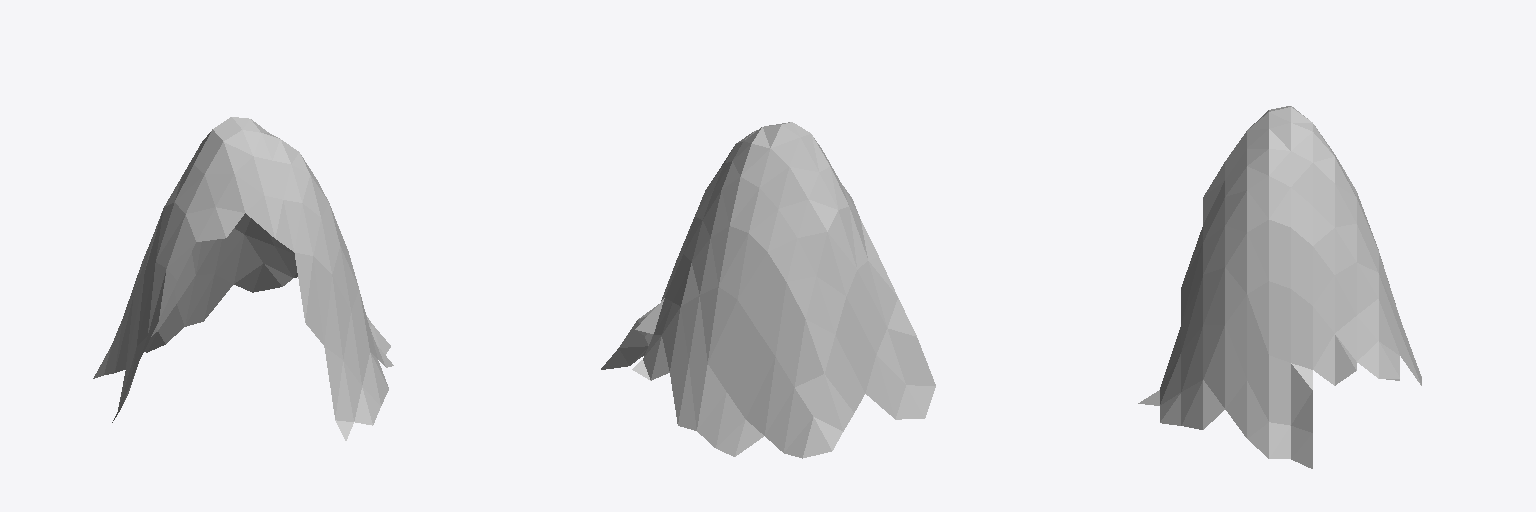
Rendered from tree_33.obj.
3 views of the same model, side by side, from view 1: azimuth 30°, elevation 25°; view 2: azimuth 150°, elevation 25°; view 3: azimuth 270°, elevation 25° (orthographic).
Visible parts, largest first — view 1: tree_33.001; view 2: tree_33.001; view 3: tree_33.001.
Boxes of the visible parts, <box> form: tree_33.001: <box>93,117,393,440</box>; tree_33.001: <box>601,122,935,458</box>; tree_33.001: <box>1138,106,1421,468</box>.
Size of the model in its own units: 16 by 14.09 by 13.